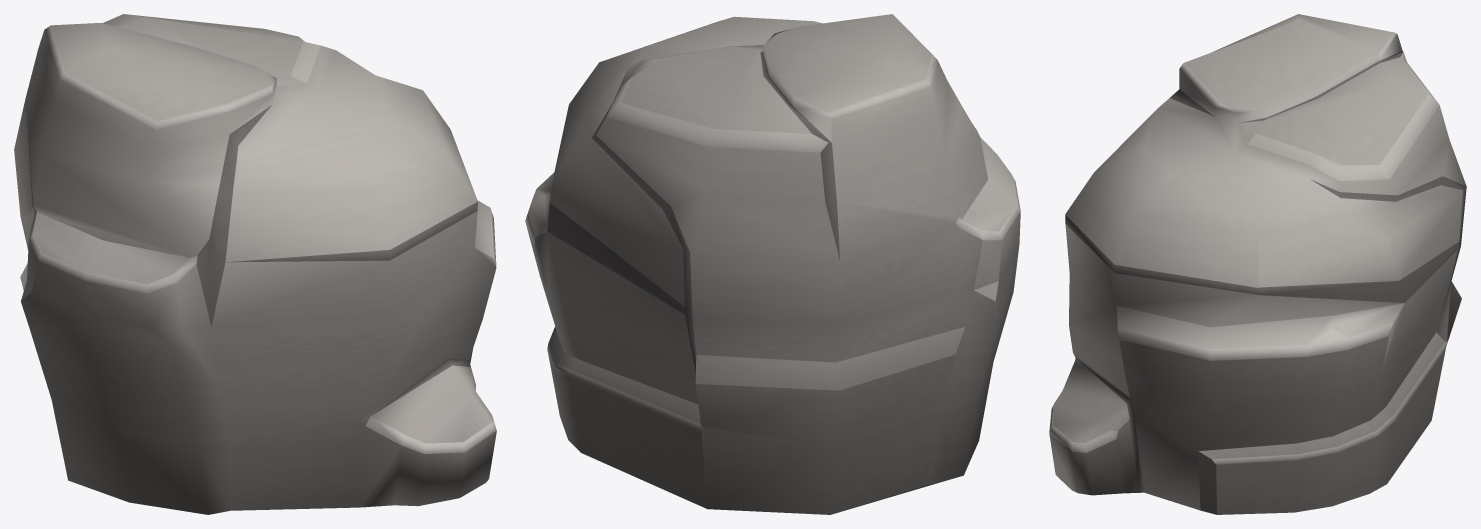
The model's file is Rock_01.fbx.
3 renders of one model, left to right at view 1: azimuth 30°, elevation 25°; view 2: azimuth 150°, elevation 25°; view 3: azimuth 270°, elevation 25°, orthographic. The views are drawn at different scales.
Parts seen in each view (by area): view 1: Rock_01; view 2: Rock_01; view 3: Rock_01.
Boxes of the visible parts, x1,y1,x2,y2 form: Rock_01: (14, 14, 496, 514); Rock_01: (525, 14, 1020, 514); Rock_01: (1049, 14, 1466, 514).
Size of what is drawn, in the model's own units: 4.56 by 4.04 by 4.23.
1 material, 1 textured.
